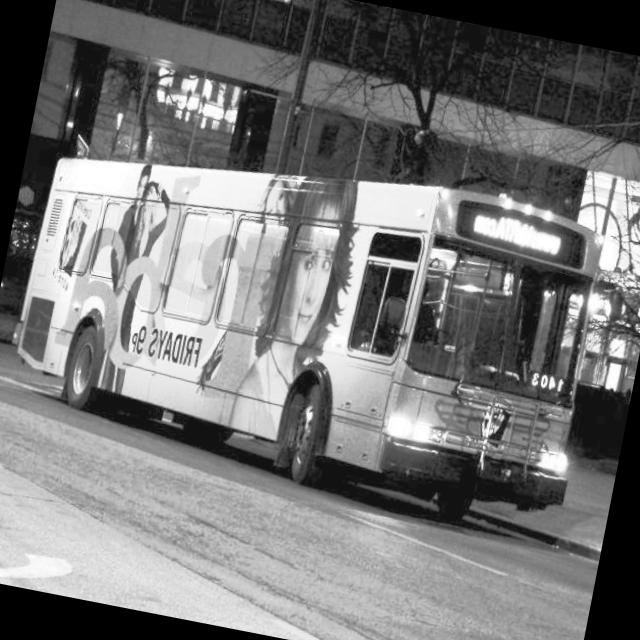Bus: (0, 82, 610, 567)
